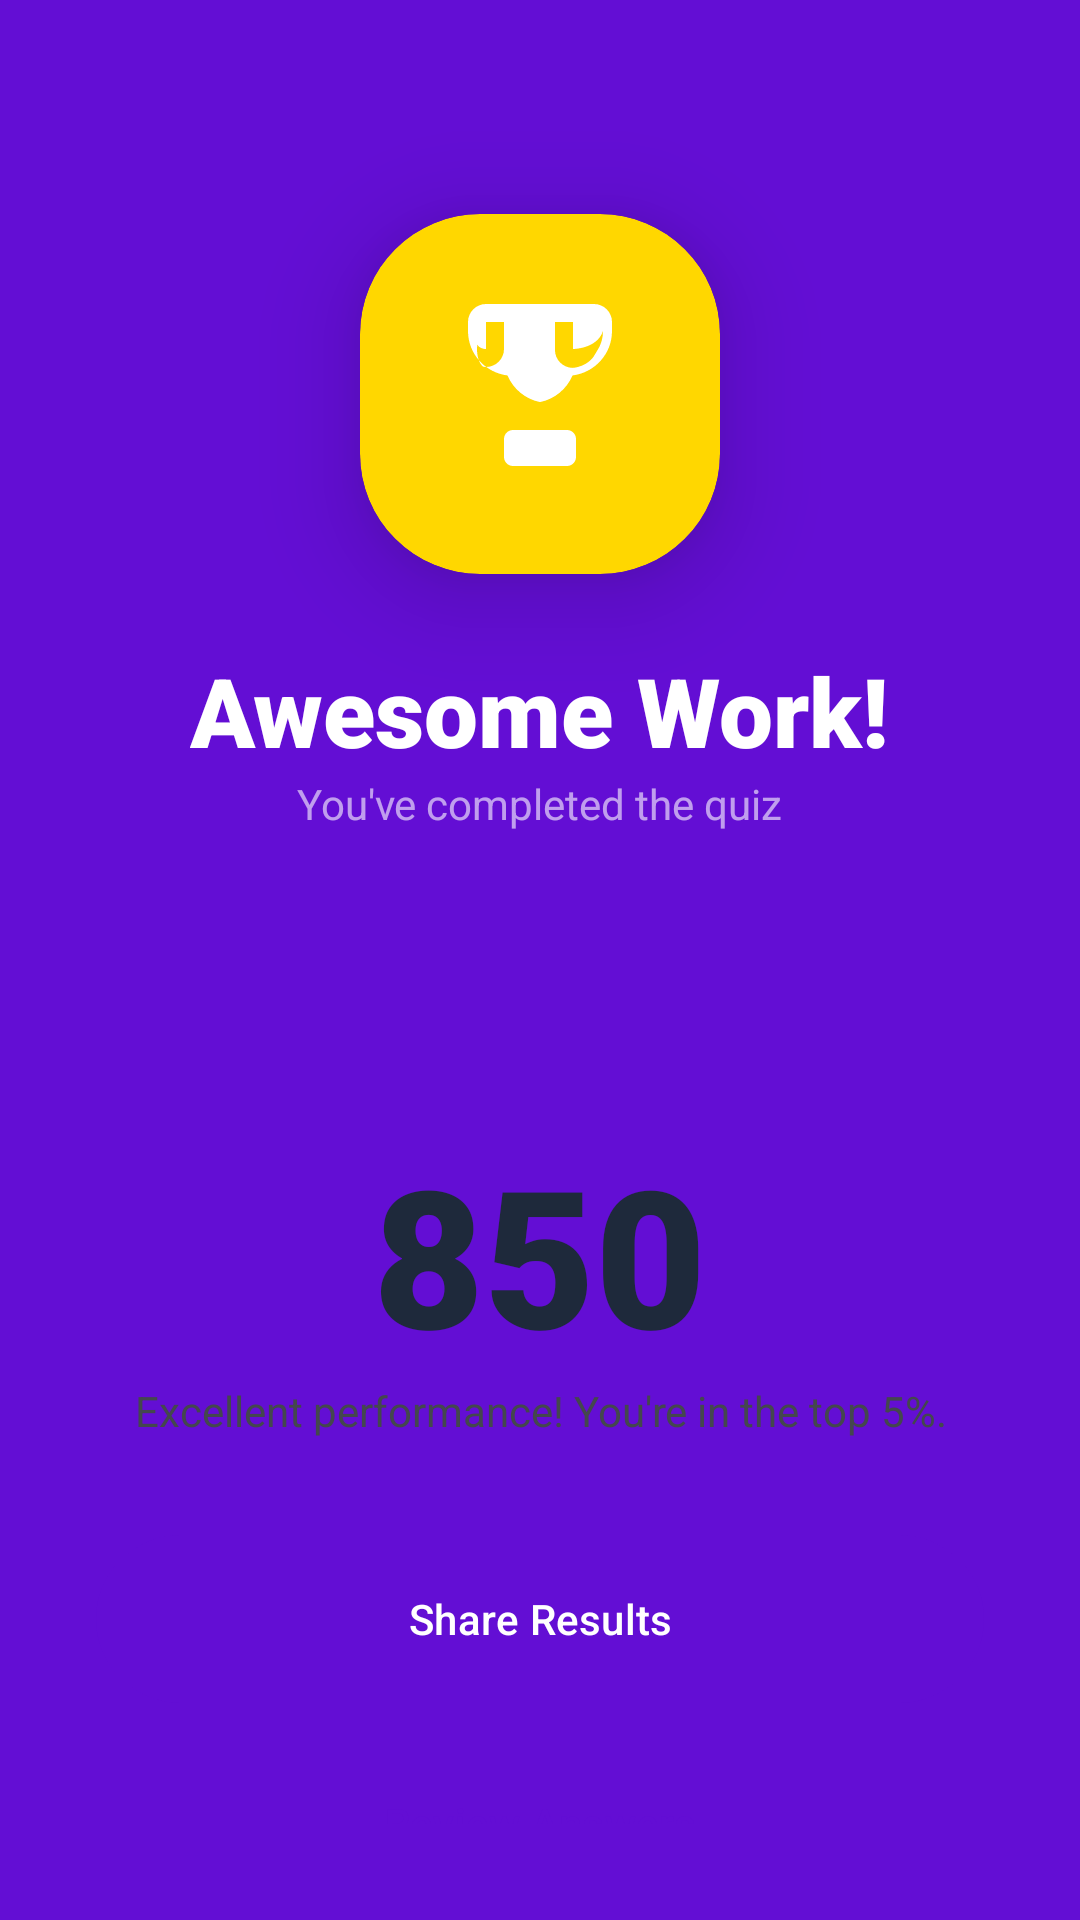

Icons on this 1080px x 1920px Android screen, each with its box as (x1, y1, x2, y2):
trophy: (360, 214, 720, 574)
